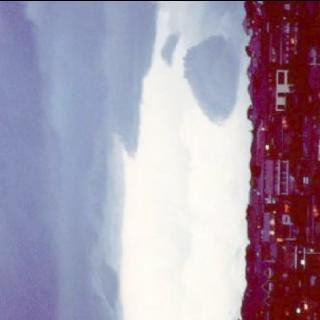Stratus: (0, 0, 241, 320)
